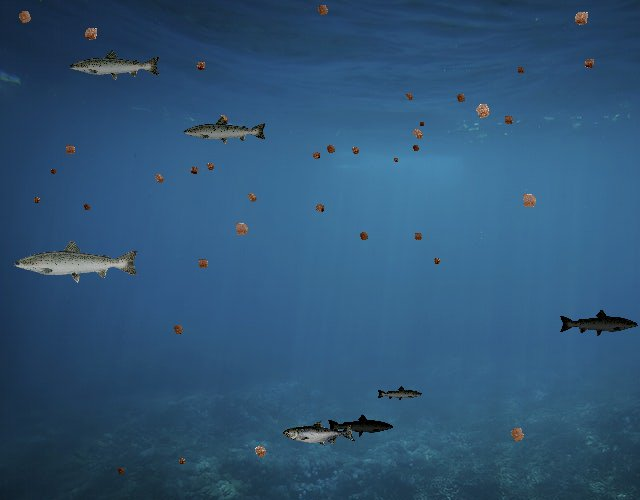Fish: (12, 238, 141, 284), (68, 49, 162, 83), (182, 115, 268, 146), (559, 309, 640, 338), (284, 421, 357, 447), (326, 413, 394, 438), (376, 385, 423, 402)
Pellet: (567, 4, 595, 32), (248, 439, 273, 464), (451, 88, 470, 107), (347, 142, 364, 159), (174, 454, 189, 469), (429, 254, 444, 268), (114, 464, 128, 478), (30, 193, 44, 207)
